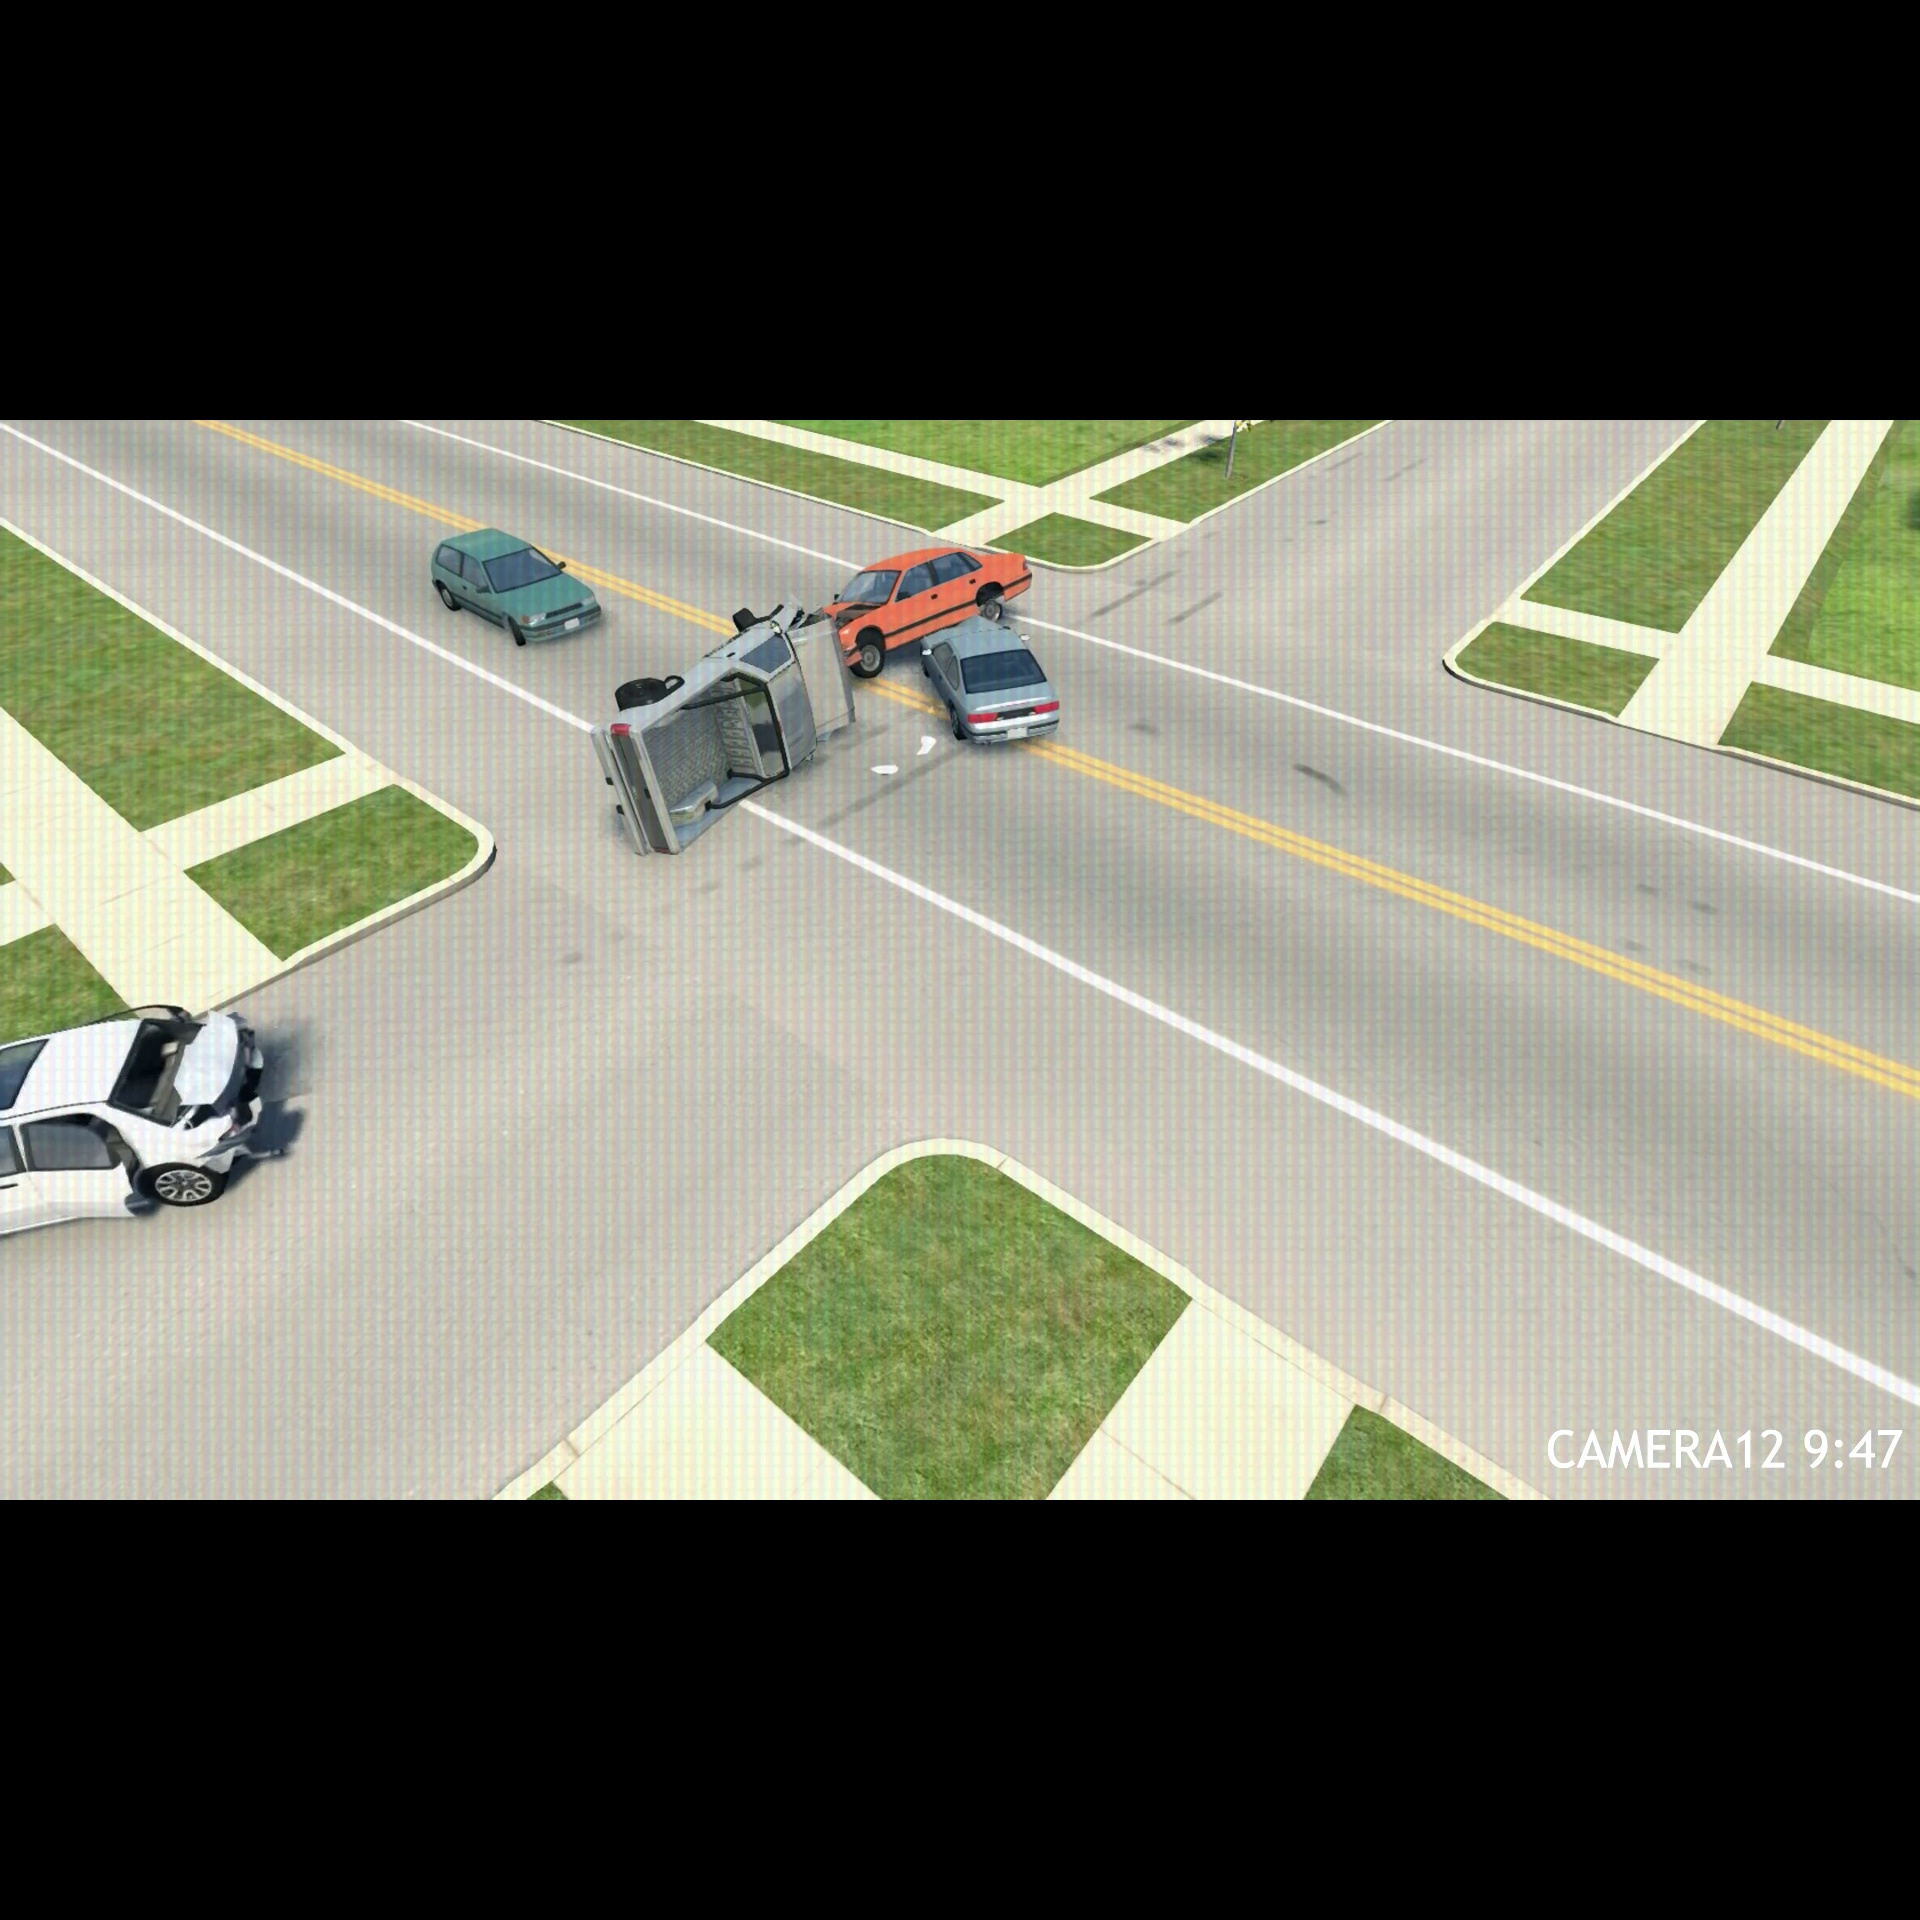vehicle: (2, 986, 294, 1245), (585, 608, 849, 870), (839, 533, 1037, 677), (431, 526, 607, 656), (920, 617, 1073, 754)
